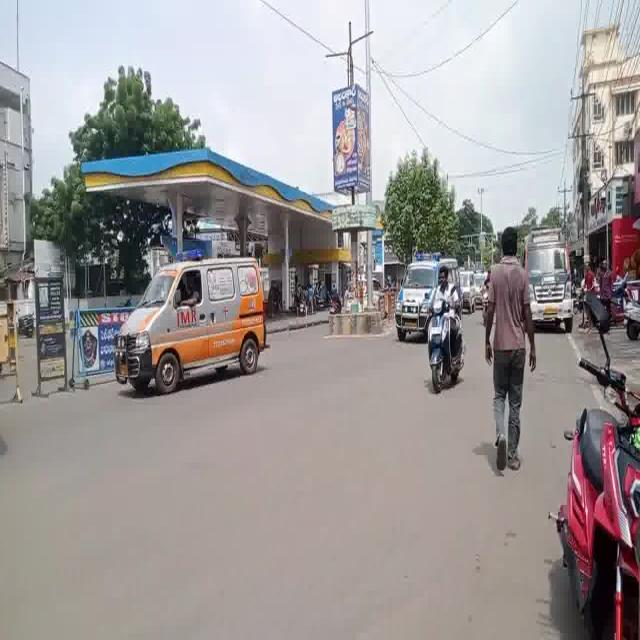ambulance: (96, 238, 282, 394), (526, 214, 586, 339), (395, 258, 442, 332)
